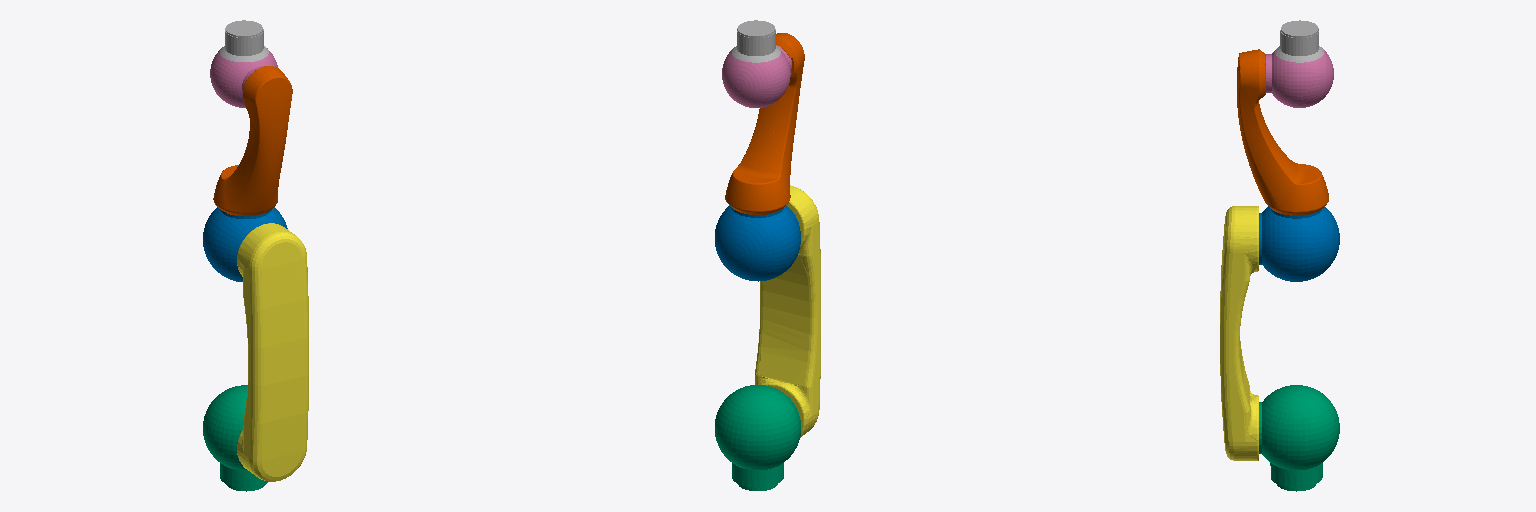
URDF robot description (lwa4p):
<?xml version="1.0" encoding="utf-8"?>
<!-- =================================================================================== -->
<!-- |    This document was autogenerated by xacro from lwa4p_arm.urdf.xacro           | -->
<!-- |    EDITING THIS FILE BY HAND IS NOT RECOMMENDED                                 | -->
<!-- =================================================================================== -->
<robot name="lwa4p">
  <!-- Available documentation on page 21 for Schunk robotic arm -->
  <!-- https://schunk.com/fileadmin/pim/docs/IM0019885.PDF -->
  <!-- foot for arm -->
  <!--link name="base_link">
		<visual>
		   <origin xyz="0 0 0.25" rpy="0 0 0" />
		   <geometry>
			  <cylinder radius="0.1" length="0.5"/>
		   </geometry>
		   <material name="Gazebo/DarkGrey" />
		</visual>
		<collision>
		   <origin xyz="0 0 0.25" rpy="0 0 0" />
		   <geometry>
			  <cylinder radius="0.1" length="0.5"/>
		   </geometry>
		</collision>
		<inertial>
		   <origin xyz="0 0 0.25" rpy="0 0 0"/>
		   <mass value="10000.0"/>
		   <inertia ixx="10000.0"  ixy="0"  ixz="0" iyy="10000.0" iyz="0" izz="10000.0" />
		</inertial>
	</link-->
  <link name="world"/>
  <!--xacro:arg name="gazebo" default="true"/>
    <xacro:if value="$(arg gazebo)"-->
  <!-- Gazebo Tags -->
  <!--xacro:include filename="$(find schunk_lwa4p_description)/urdf/lwa4p/lwa4p_arm.gazebo.xacro"/>
    </xacro:if-->
  <!--xacro:if value="${has_podest}"-->
  <!-- joint between base_link and lwa4p_extended_connector_link >
      <joint name="${arm_id}_podest_joint" type="fixed">
        <xacro:insert_block name="origin" />
        <parent link="${parent}"/>
        <child link="${arm_id}_podest_link"/>
      </joint-->
  <!--link name="${arm_id}_podest_link">
        <xacro:default_inertial/>
        <visual>
          <origin xyz="0 0 0" rpy="0 ${M_PI} 0" />
          <geometry>
            <mesh filename="package://schunk_lwa4p_description/meshes/lwa4p/stl/arm_base_link.stl" />
          </geometry>
           <material name="Schunk/DarkGrey" />
        </visual>

        <collision>
          <origin xyz="0 0 0" rpy="0 ${M_PI} 0" />
          <geometry>
          <mesh filename="package://schunk_lwa4p_description/meshes/lwa4p/stl/arm_base_link.stl" />
          </geometry>
        </collision>
      </link>

      <joint name="${arm_id}_base_joint" type="fixed">
        <origin xyz="0 0 0.10" rpy="0 0 0" />
        <parent link="${arm_id}_podest_link"/>
        <child link="${arm_id}_base_link"/>
      </joint>
    </xacro:if-->
  <!--xacro:unless value="${has_podest}"-->
  <!-- joint between base_link and lwa4p_extended_connector_link -->
  <!--joint name="${arm_id}_base_joint" type="fixed">
        <xacro:insert_block name="origin" />
        <parent link="${parent}"/>
        <child link="${arm_id}_base_link"/>
      </joint>
    </xacro:unless-->
  <joint name="lwa4p_base_joint" type="fixed">
    <origin rpy="0 0 0" xyz="0 0 0.10"/>
    <parent link="world"/>
    <child link="lwa4p_base_link"/>
  </joint>
  <link name="lwa4p_base_link">
    <inertial>
      <mass value="0.01"/>
      <origin xyz="0 0 0"/>
      <inertia ixx="0.001" ixy="0.0" ixz="0.0" iyy="0.001" iyz="0.0" izz="0.001"/>
    </inertial>
  </link>
  <!-- Link 1 -->
  <link name="lwa4p_link1">
    <inertial>
      <mass value="0.01"/>
      <origin xyz="0 0 0"/>
      <inertia ixx="0.001" ixy="0.0" ixz="0.0" iyy="0.001" iyz="0.0" izz="0.001"/>
    </inertial>
    <inertial>
      <origin rpy="0 0 0" xyz="0 0 0"/>
      <mass value="0.29364"/>
      <inertia ixx="0.01" ixy="0" ixz="0" iyy="0.01" iyz="0" izz="0.01"/>
    </inertial>
    <visual>
      <origin rpy="0 0 0" xyz="0 0 0"/>
      <geometry>
        <mesh filename="package://schunk_lwa4p_description/meshes/lwa4p/stl/arm_1_link.stl"/>
      </geometry>
      <material name="Schunk/Blue"/>
    </visual>
    <collision>
      <origin rpy="0 0 0" xyz="0 0 0"/>
      <geometry>
        <mesh filename="package://schunk_lwa4p_description/meshes/lwa4p/stl/arm_1_link.stl"/>
      </geometry>
    </collision>
  </link>
  <!-- Joint 1 -->
  <joint name="lwa4p_joint1" type="revolute">
    <origin rpy="0 0 0" xyz="0 0 0"/>
    <parent link="lwa4p_base_link"/>
    <child link="lwa4p_link1"/>
    <axis xyz="0 0 1"/>
    <dynamics damping="0.5" friction="0.5"/>
    <limit effort="370" lower="-2.957" upper="2.957" velocity="1.26"/>
    <safety_controller k_position="20" k_velocity="50" soft_lower_limit="-6.27" soft_upper_limit="6.27"/>
  </joint>
  <!-- Link 2 -->
  <link name="lwa4p_link2">
    <inertial>
      <mass value="0.01"/>
      <origin xyz="0 0 0"/>
      <inertia ixx="0.001" ixy="0.0" ixz="0.0" iyy="0.001" iyz="0.0" izz="0.001"/>
    </inertial>
    <inertial>
      <origin rpy="0 0 0" xyz="0 0 0"/>
      <mass value="1.68311"/>
      <inertia ixx="0.03" ixy="0" ixz="0" iyy="0.03" iyz="0" izz="0.03"/>
    </inertial>
    <visual>
      <origin rpy="0 0 0" xyz="0 0 0"/>
      <geometry>
        <mesh filename="package://schunk_lwa4p_description/meshes/lwa4p/stl/arm_2_link.stl"/>
      </geometry>
      <material name="Schunk/LightGrey"/>
    </visual>
    <collision>
      <origin rpy="0 0 0" xyz="0 0 0"/>
      <geometry>
        <mesh filename="package://schunk_lwa4p_description/meshes/lwa4p/stl/arm_2_link.stl"/>
      </geometry>
    </collision>
  </link>
  <!-- Joint 2 -->
  <!-- joint between arm_1_link and arm_2_link -->
  <joint name="lwa4p_joint2" type="revolute">
    <origin rpy="1.5708 0 0" xyz="0 0 0"/>
    <parent link="lwa4p_link1"/>
    <child link="lwa4p_link2"/>
    <axis xyz="0 0 1"/>
    <dynamics damping="0.5" friction="0.5"/>
    <limit effort="370" lower="-2.957" upper="2.957" velocity="1.26"/>
    <safety_controller k_position="20" k_velocity="50" soft_lower_limit="-2.08" soft_upper_limit="2.08"/>
  </joint>
  <!-- Link 3 -->
  <link name="lwa4p_link3">
    <inertial>
      <mass value="0.01"/>
      <origin xyz="0 0 0"/>
      <inertia ixx="0.001" ixy="0.0" ixz="0.0" iyy="0.001" iyz="0.0" izz="0.001"/>
    </inertial>
    <inertial>
      <origin rpy="0 0 0" xyz="0 0 0"/>
      <mass value="2.1"/>
      <inertia ixx="0.03" ixy="0" ixz="0" iyy="0.03" iyz="0" izz="0.03"/>
    </inertial>
    <visual>
      <origin rpy="0 0 0" xyz="0 0 0"/>
      <geometry>
        <mesh filename="package://schunk_lwa4p_description/meshes/lwa4p/stl/arm_3_link.stl"/>
      </geometry>
      <material name="Schunk/LightGrey"/>
    </visual>
    <collision>
      <origin rpy="0 0 0" xyz="0 0 0"/>
      <geometry>
        <mesh filename="package://schunk_lwa4p_description/meshes/lwa4p/stl/arm_3_link.stl"/>
      </geometry>
    </collision>
  </link>
  <!-- Joint 3 -->
  <!-- joint between arm_2_link and arm_3_link -->
  <joint name="lwa4p_joint3" type="revolute">
    <origin rpy="0 3.14159 0" xyz="0 0.350 0"/>
    <parent link="lwa4p_link2"/>
    <child link="lwa4p_link3"/>
    <axis xyz="0 0 1"/>
    <dynamics damping="0.5" friction="0.5"/>
    <limit effort="176" lower="-2.704" upper="2.704" velocity="1.26"/>
    <safety_controller k_position="20" k_velocity="25" soft_lower_limit="-6.27" soft_upper_limit="6.27"/>
  </joint>
  <!-- Link 4 -->
  <link name="lwa4p_link4">
    <inertial>
      <mass value="0.01"/>
      <origin xyz="0 0 0"/>
      <inertia ixx="0.001" ixy="0.0" ixz="0.0" iyy="0.001" iyz="0.0" izz="0.001"/>
    </inertial>
    <inertial>
      <origin rpy="0 0 0" xyz="0 0 0"/>
      <mass value="1.68311"/>
      <inertia ixx="0.03" ixy="0" ixz="0" iyy="0.03" iyz="0" izz="0.03"/>
    </inertial>
    <visual>
      <origin rpy="0 0 0" xyz="0 0 0"/>
      <geometry>
        <mesh filename="package://schunk_lwa4p_description/meshes/lwa4p/stl/arm_4_link.stl"/>
      </geometry>
      <material name="Schunk/LightGrey"/>
    </visual>
    <collision>
      <origin rpy="0 0 0" xyz="0 0 0"/>
      <geometry>
        <mesh filename="package://schunk_lwa4p_description/meshes/lwa4p/stl/arm_4_link.stl"/>
      </geometry>
    </collision>
  </link>
  <!-- Joint 4 -->
  <!-- joint between arm_4_link and arm_5_link -->
  <joint name="lwa4p_joint4" type="revolute">
    <origin rpy="-1.5708 3.14159 0" xyz="0 0 0"/>
    <parent link="lwa4p_link3"/>
    <child link="lwa4p_link4"/>
    <axis xyz="0 0 1"/>
    <dynamics damping="0.5" friction="0.5"/>
    <limit effort="176" lower="-2.957" upper="2.957" velocity="1.26"/>
    <safety_controller k_position="20" k_velocity="25" soft_lower_limit="-2.08" soft_upper_limit="2.08"/>
  </joint>
  <!-- Link 5 -->
  <link name="lwa4p_link5">
    <inertial>
      <mass value="0.01"/>
      <origin xyz="0 0 0"/>
      <inertia ixx="0.001" ixy="0.0" ixz="0.0" iyy="0.001" iyz="0.0" izz="0.001"/>
    </inertial>
    <inertial>
      <origin rpy="0 0 0" xyz="0 0 0"/>
      <mass value="0.807"/>
      <inertia ixx="0.03" ixy="0" ixz="0" iyy="0.03" iyz="0" izz="0.03"/>
    </inertial>
    <visual>
      <origin rpy="0 0 0" xyz="0 0 0"/>
      <geometry>
        <mesh filename="package://schunk_lwa4p_description/meshes/lwa4p/stl/arm_5_link.stl"/>
      </geometry>
      <material name="Schunk/Blue"/>
    </visual>
    <collision>
      <origin rpy="0 0 0" xyz="0 0 0"/>
      <geometry>
        <mesh filename="package://schunk_lwa4p_description/meshes/lwa4p/stl/arm_5_link.stl"/>
      </geometry>
    </collision>
  </link>
  <!-- Joint 5 -->
  <!-- joint between arm_4_link and arm_5_link -->
  <joint name="lwa4p_joint5" type="revolute">
    <origin rpy="1.5708 0 3.14159" xyz="0 0.005263 0.305"/>
    <parent link="lwa4p_link4"/>
    <child link="lwa4p_link5"/>
    <axis xyz="0 0 1"/>
    <dynamics damping="0.5" friction="0.5"/>
    <limit effort="41.6" lower="-2.957" upper="2.957" velocity="1.26"/>
    <safety_controller k_position="20" k_velocity="25" soft_lower_limit="-6.27" soft_upper_limit="6.27"/>
  </joint>
  <!-- Link 6 -->
  <link name="lwa4p_link6">
    <inertial>
      <mass value="0.01"/>
      <origin xyz="0 0 0"/>
      <inertia ixx="0.001" ixy="0.0" ixz="0.0" iyy="0.001" iyz="0.0" izz="0.001"/>
    </inertial>
    <inertial>
      <origin rpy="0 0 0" xyz="0 0 0"/>
      <mass value="0.819"/>
      <inertia ixx="0.01" ixy="0" ixz="0" iyy="0.01" iyz="0" izz="0.01"/>
    </inertial>
    <visual>
      <origin rpy="0 0 0" xyz="0 0 0"/>
      <geometry>
        <mesh filename="package://schunk_lwa4p_description/meshes/lwa4p/stl/arm_6_link.stl"/>
      </geometry>
      <material name="Schunk/LightGrey"/>
    </visual>
    <collision>
      <origin rpy="0 0 0" xyz="0 0 0"/>
      <geometry>
        <mesh filename="package://schunk_lwa4p_description/meshes/lwa4p/stl/arm_6_link.stl"/>
      </geometry>
    </collision>
  </link>
  <!-- Joint 6 -->
  <!-- joint between arm_5_link and arm_6_link -->
  <joint name="lwa4p_joint6" type="revolute">
    <origin rpy="-1.5708 0 0" xyz="0 0 0"/>
    <parent link="lwa4p_link5"/>
    <child link="lwa4p_link6"/>
    <axis xyz="0 0 1"/>
    <dynamics damping="0.5" friction="0.5"/>
    <limit effort="20.1" lower="-2.957" upper="2.957" velocity="1.26"/>
    <safety_controller k_position="20" k_velocity="25" soft_lower_limit="-2.08" soft_upper_limit="2.08"/>
  </joint>
</robot>

--- Facts derived from the render (not from the file) ---
The picture shows the robot from 3 angles, left to right: view 1: azimuth 30°, elevation 25°; view 2: azimuth 150°, elevation 25°; view 3: azimuth 270°, elevation 25°; orthographic projection.
Model lwa4p with 8 links and 7 joints (6 revolute, 1 fixed), rooted at world, posed all joints at 0.
Visible links, largest first — view 1: lwa4p_link2, lwa4p_link4, lwa4p_link1, lwa4p_link3, lwa4p_link5, lwa4p_link6; view 2: lwa4p_link2, lwa4p_link1, lwa4p_link4, lwa4p_link3, lwa4p_link5, lwa4p_link6; view 3: lwa4p_link2, lwa4p_link1, lwa4p_link4, lwa4p_link3, lwa4p_link5, lwa4p_link6.
Link boxes in pixels (left/top/right/bottom): lwa4p_link2: left=237, top=223, right=308, bottom=481; lwa4p_link4: left=213, top=66, right=292, bottom=215; lwa4p_link1: left=203, top=385, right=267, bottom=491; lwa4p_link3: left=203, top=207, right=287, bottom=281; lwa4p_link5: left=210, top=48, right=277, bottom=107; lwa4p_link6: left=220, top=20, right=268, bottom=61; lwa4p_link2: left=755, top=185, right=820, bottom=437; lwa4p_link1: left=715, top=385, right=800, bottom=490; lwa4p_link4: left=725, top=33, right=804, bottom=214; lwa4p_link3: left=715, top=205, right=800, bottom=281; lwa4p_link5: left=722, top=45, right=791, bottom=107; lwa4p_link6: left=732, top=20, right=780, bottom=62; lwa4p_link2: left=1220, top=206, right=1258, bottom=460; lwa4p_link1: left=1259, top=385, right=1339, bottom=491; lwa4p_link4: left=1237, top=49, right=1328, bottom=215; lwa4p_link3: left=1259, top=206, right=1339, bottom=281; lwa4p_link5: left=1266, top=50, right=1333, bottom=107; lwa4p_link6: left=1275, top=20, right=1323, bottom=62.
Bounding box of the posed robot: 0.1447 × 0.2009 × 0.8403 m (x, y, z).
Meshes: 6 distinct files referenced, 6 mesh visuals loaded (6 binary STL).
